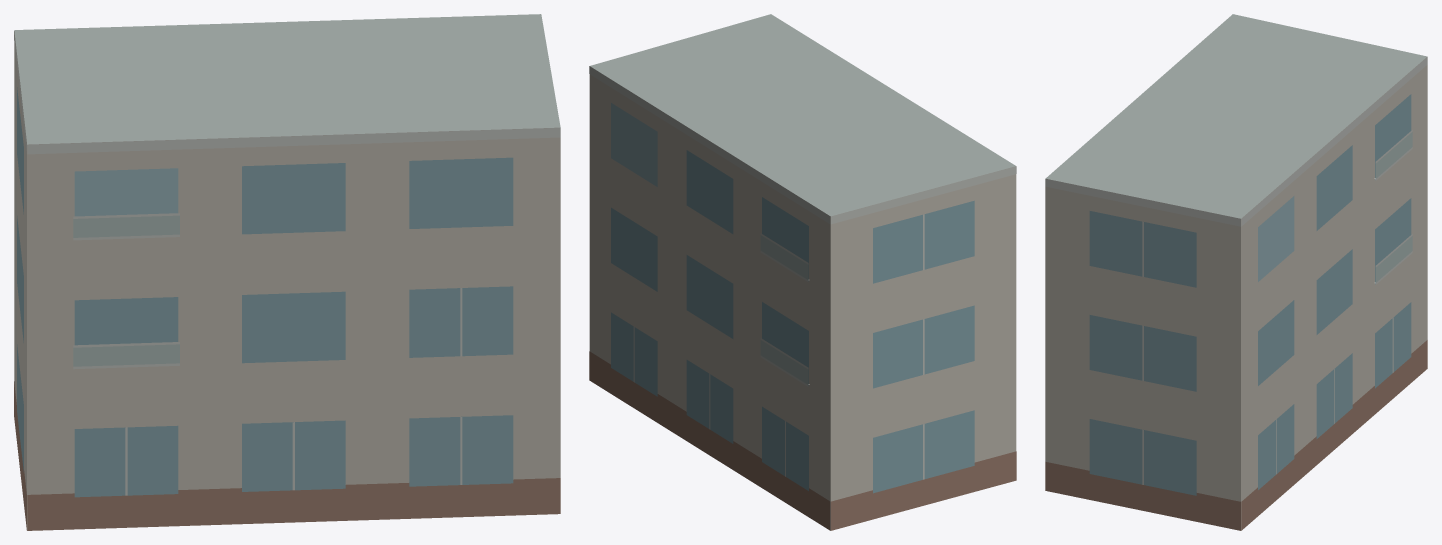
The model's file is survey-upis-32733907.glb.
3 renders of one model, left to right at view 1: azimuth 30°, elevation 25°; view 2: azimuth 150°, elevation 25°; view 3: azimuth 270°, elevation 25°, orthographic. The views are drawn at different scales.
Visible parts, largest first — view 1: survey-upis-32733907.tmp; view 2: survey-upis-32733907.tmp; view 3: survey-upis-32733907.tmp.
Boxes of the visible parts, x1=… form: survey-upis-32733907.tmp: x1=14, y1=14, x2=560, y2=530; survey-upis-32733907.tmp: x1=589, y1=14, x2=1016, y2=530; survey-upis-32733907.tmp: x1=1045, y1=14, x2=1427, y2=530.
Bounding box in the file's own units: 13.37 × 9.5 × 10.55.
